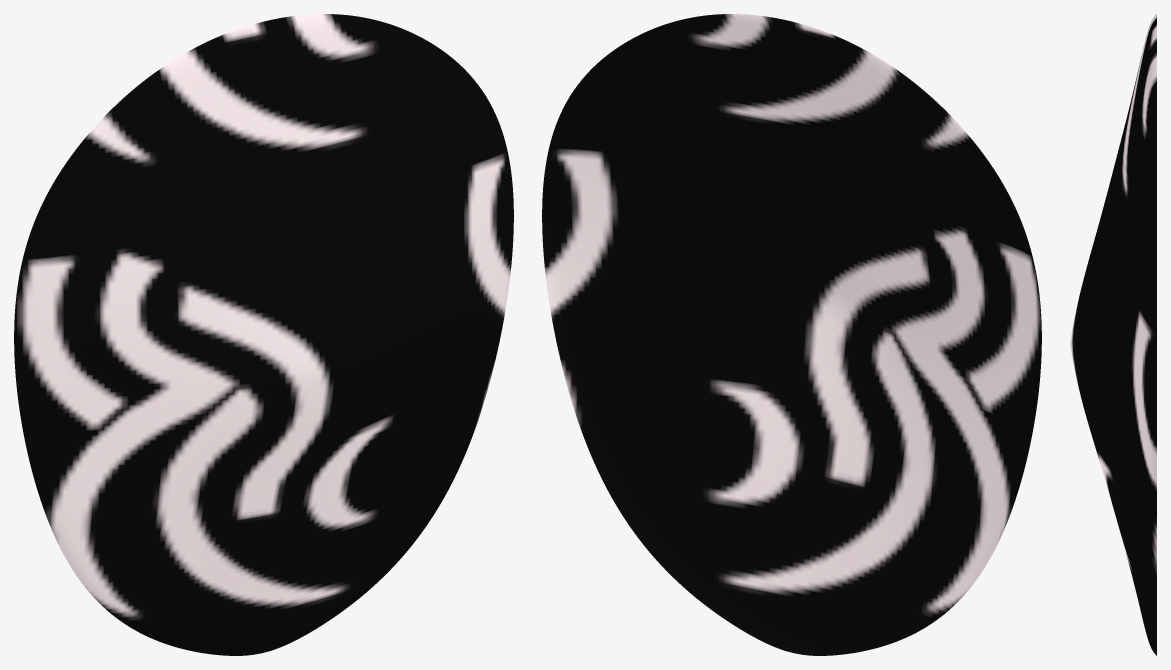
Rendered from mask preset 1.glb.
The picture shows the model from 3 angles, left to right: view 1: azimuth 30°, elevation 25°; view 2: azimuth 150°, elevation 25°; view 3: azimuth 270°, elevation 25°; orthographic projection. The views are drawn at different scales.
Visible parts, largest first — view 1: Mask Model 1; view 2: Mask Model 1; view 3: Mask Model 1.
Part boxes in pixels (<box>): Mask Model 1: <box>14,14,513,655</box>; Mask Model 1: <box>542,14,1041,655</box>; Mask Model 1: <box>1070,14,1156,655</box>.
Bounding box in the file's own units: 0.1893 × 0.2285 × 0.03.
1 material, 1 textured.
